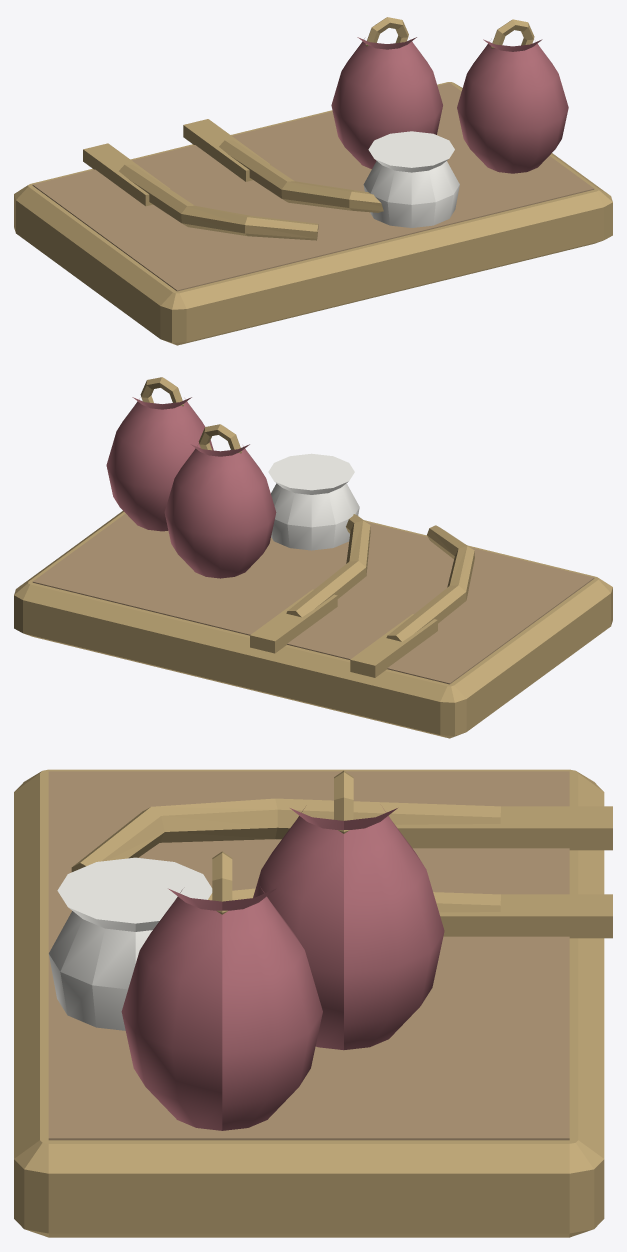
Rendered from roman-bathhouse-and-palaestra-strigil-and-oil-flask-tr-7b3d1c0f__37893.glb.
The picture shows the model from 3 angles, top to bottom: view 1: azimuth 30°, elevation 25°; view 2: azimuth 150°, elevation 25°; view 3: azimuth 270°, elevation 25°; orthographic projection. The views are drawn at different scales.
Parts seen in each view (by area): view 1: strigil-and-oil-flask-tray; view 2: strigil-and-oil-flask-tray; view 3: strigil-and-oil-flask-tray.
Boxes of the visible parts, box(x1,y1,x2,y2) form: strigil-and-oil-flask-tray: box(14, 17, 612, 345); strigil-and-oil-flask-tray: box(14, 377, 612, 738); strigil-and-oil-flask-tray: box(14, 769, 612, 1237).
Bounding box in the file's own units: 0.54 × 0.226 × 0.345.
